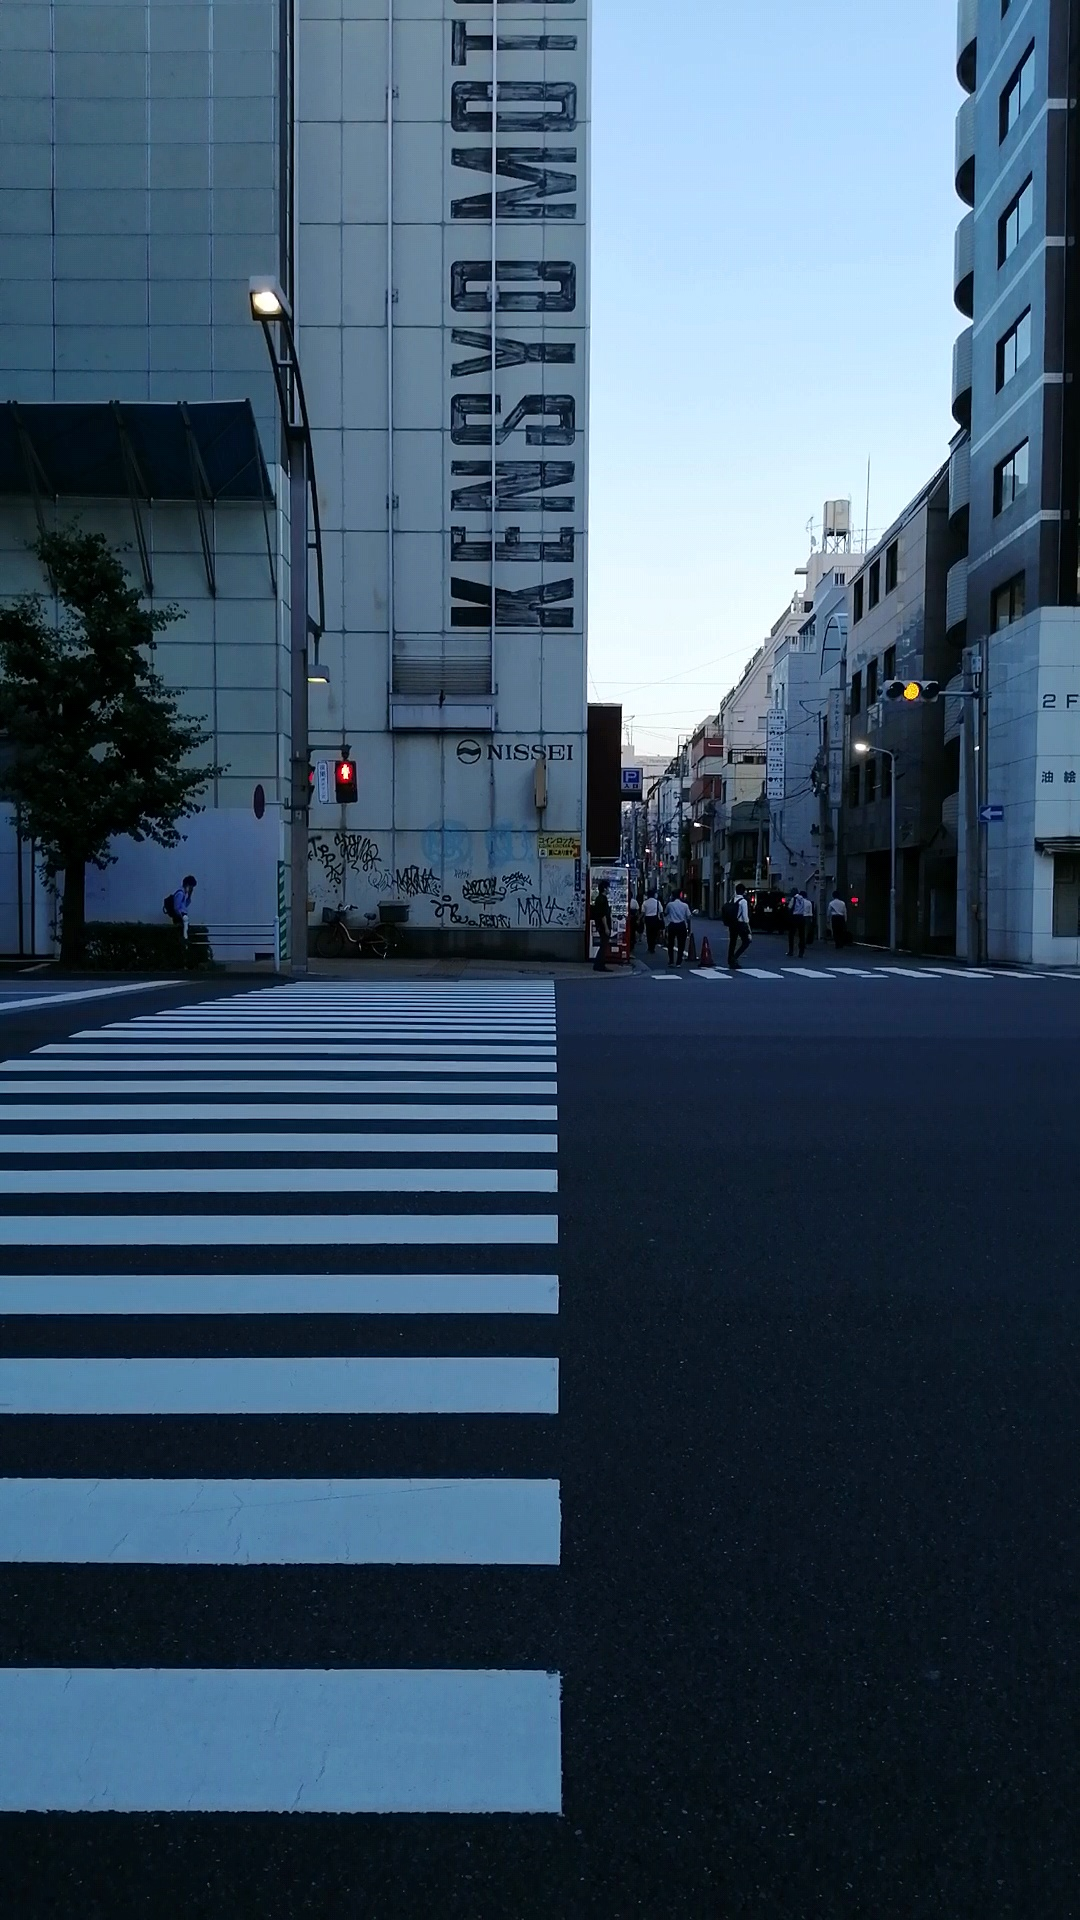red: (334, 758, 357, 803)
